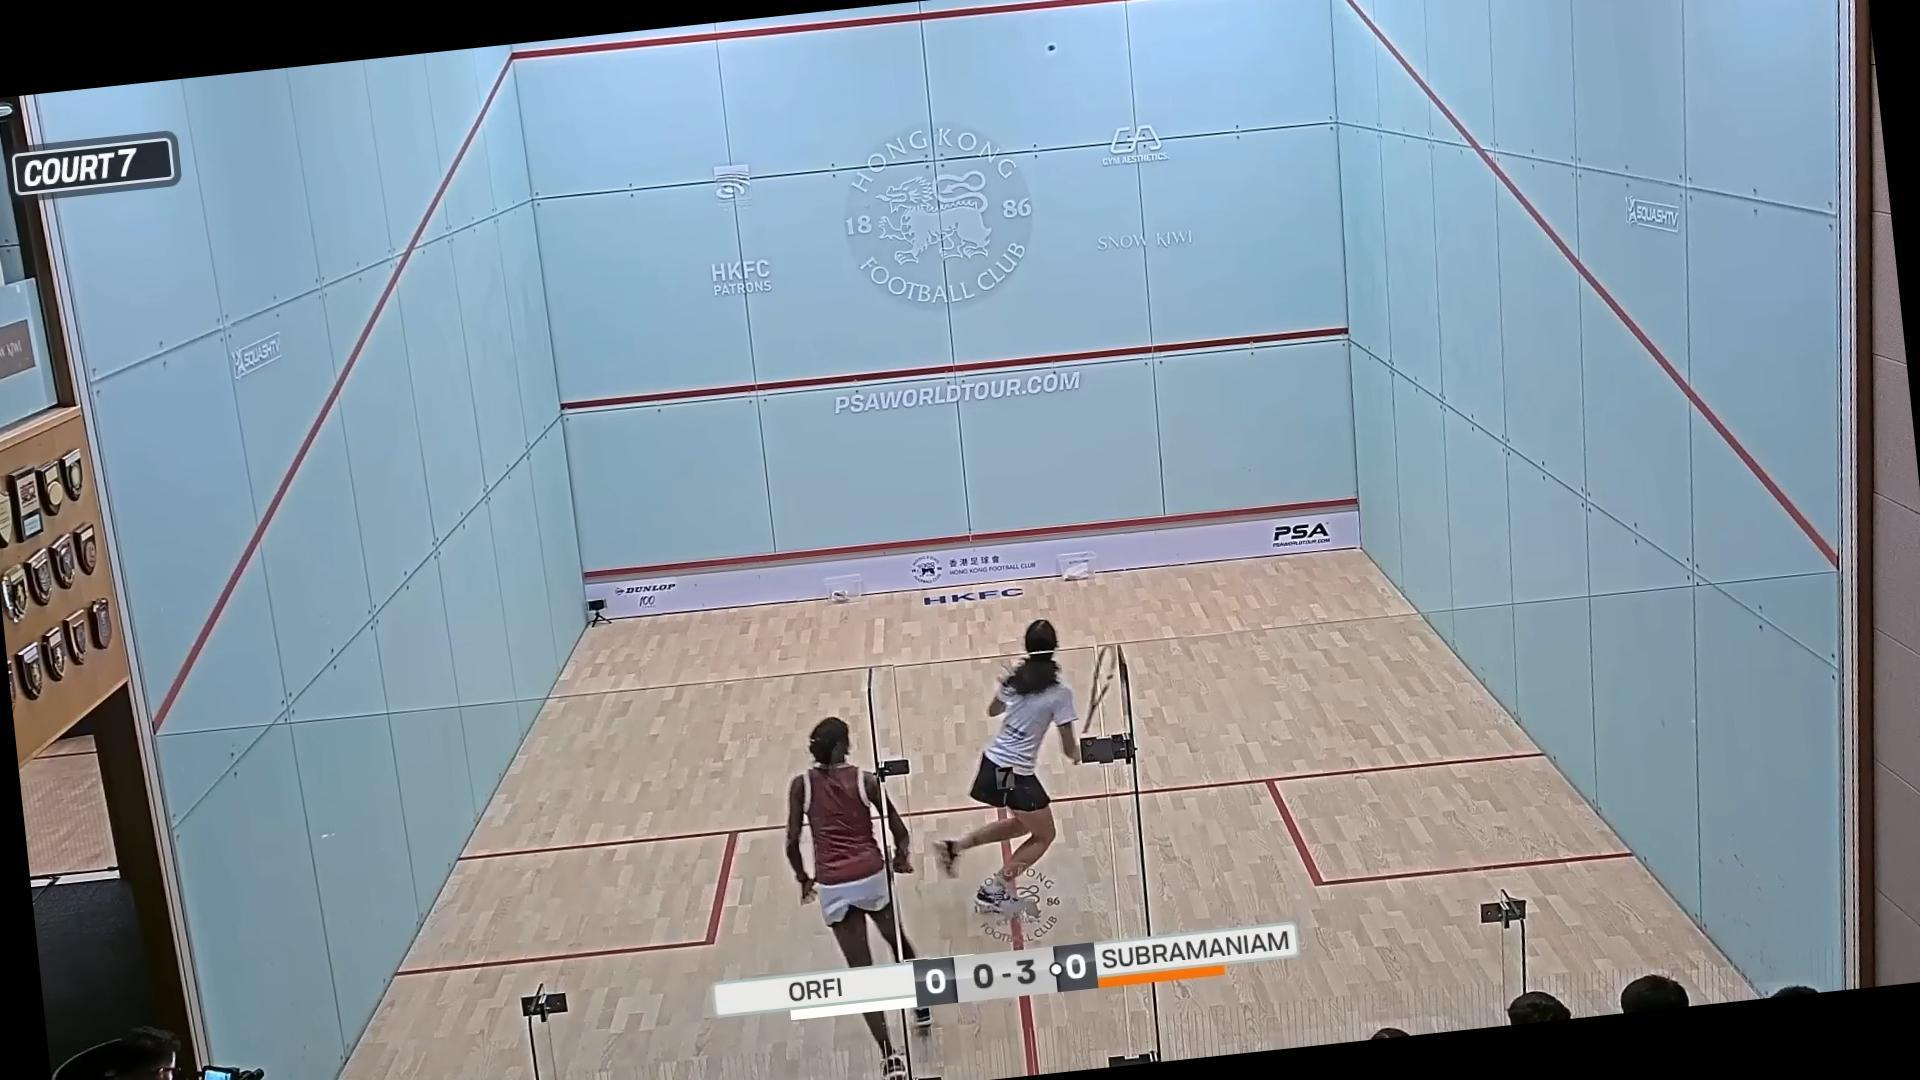Squash-Ball: (1038, 34, 1062, 59)
